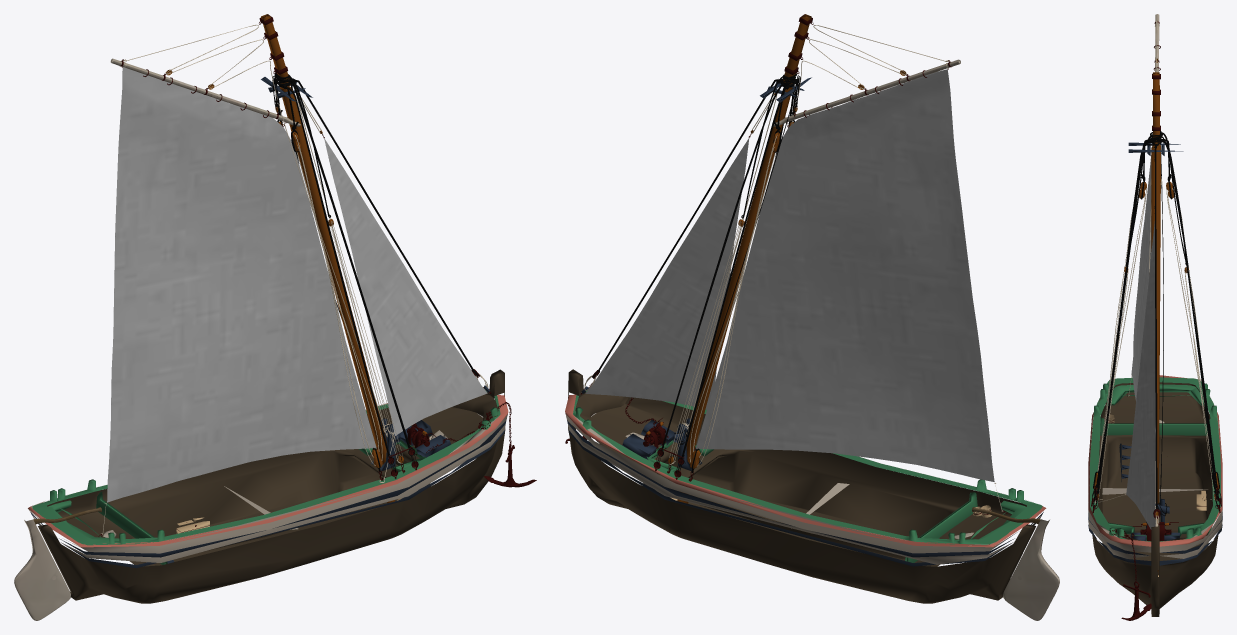
The model's file is fragata.glb.
The picture shows the model from 3 angles, left to right: view 1: azimuth 30°, elevation 25°; view 2: azimuth 150°, elevation 25°; view 3: azimuth 270°, elevation 25°; orthographic projection. The views are drawn at different scales.
Parts seen in each view (by area): view 1: vela_Trazeira.001, lite_static, Vela Frontal.001, Corpo_part9, Circle.048, Circle.001_part69; view 2: vela_Trazeira.001, lite_static, Vela Frontal.001, Corpo_part9, Circle.001_part69, Circle.048; view 3: lite_static, Vela Frontal.001, vela_Trazeira.001, Circle.029, Circle.047, Circle.001_part69.
Boxes of the visible parts, bbox=[...] form: vela_Trazeira.001: bbox=[107, 67, 376, 502]; lite_static: bbox=[28, 14, 536, 603]; Vela Frontal.001: bbox=[324, 138, 487, 435]; Corpo_part9: bbox=[14, 519, 70, 620]; Circle.048: bbox=[122, 24, 394, 441]; Circle.001_part69: bbox=[110, 58, 300, 126]; vela_Trazeira.001: bbox=[695, 69, 994, 481]; lite_static: bbox=[565, 14, 1046, 603]; Vela Frontal.001: bbox=[585, 138, 749, 409]; Corpo_part9: bbox=[1003, 519, 1059, 620]; Circle.001_part69: bbox=[773, 59, 960, 126]; Circle.048: bbox=[685, 25, 948, 428]; lite_static: bbox=[1088, 72, 1222, 620]; Vela Frontal.001: bbox=[1126, 221, 1155, 529]; vela_Trazeira.001: bbox=[1131, 145, 1152, 400]; Circle.029: bbox=[1126, 136, 1186, 265]; Circle.047: bbox=[1157, 145, 1167, 515]; Circle.001_part69: bbox=[1150, 14, 1162, 185].
Bounding box in the file's own units: 2220 × 2310 × 597.
Materials: 16 (5 with a texture image).
